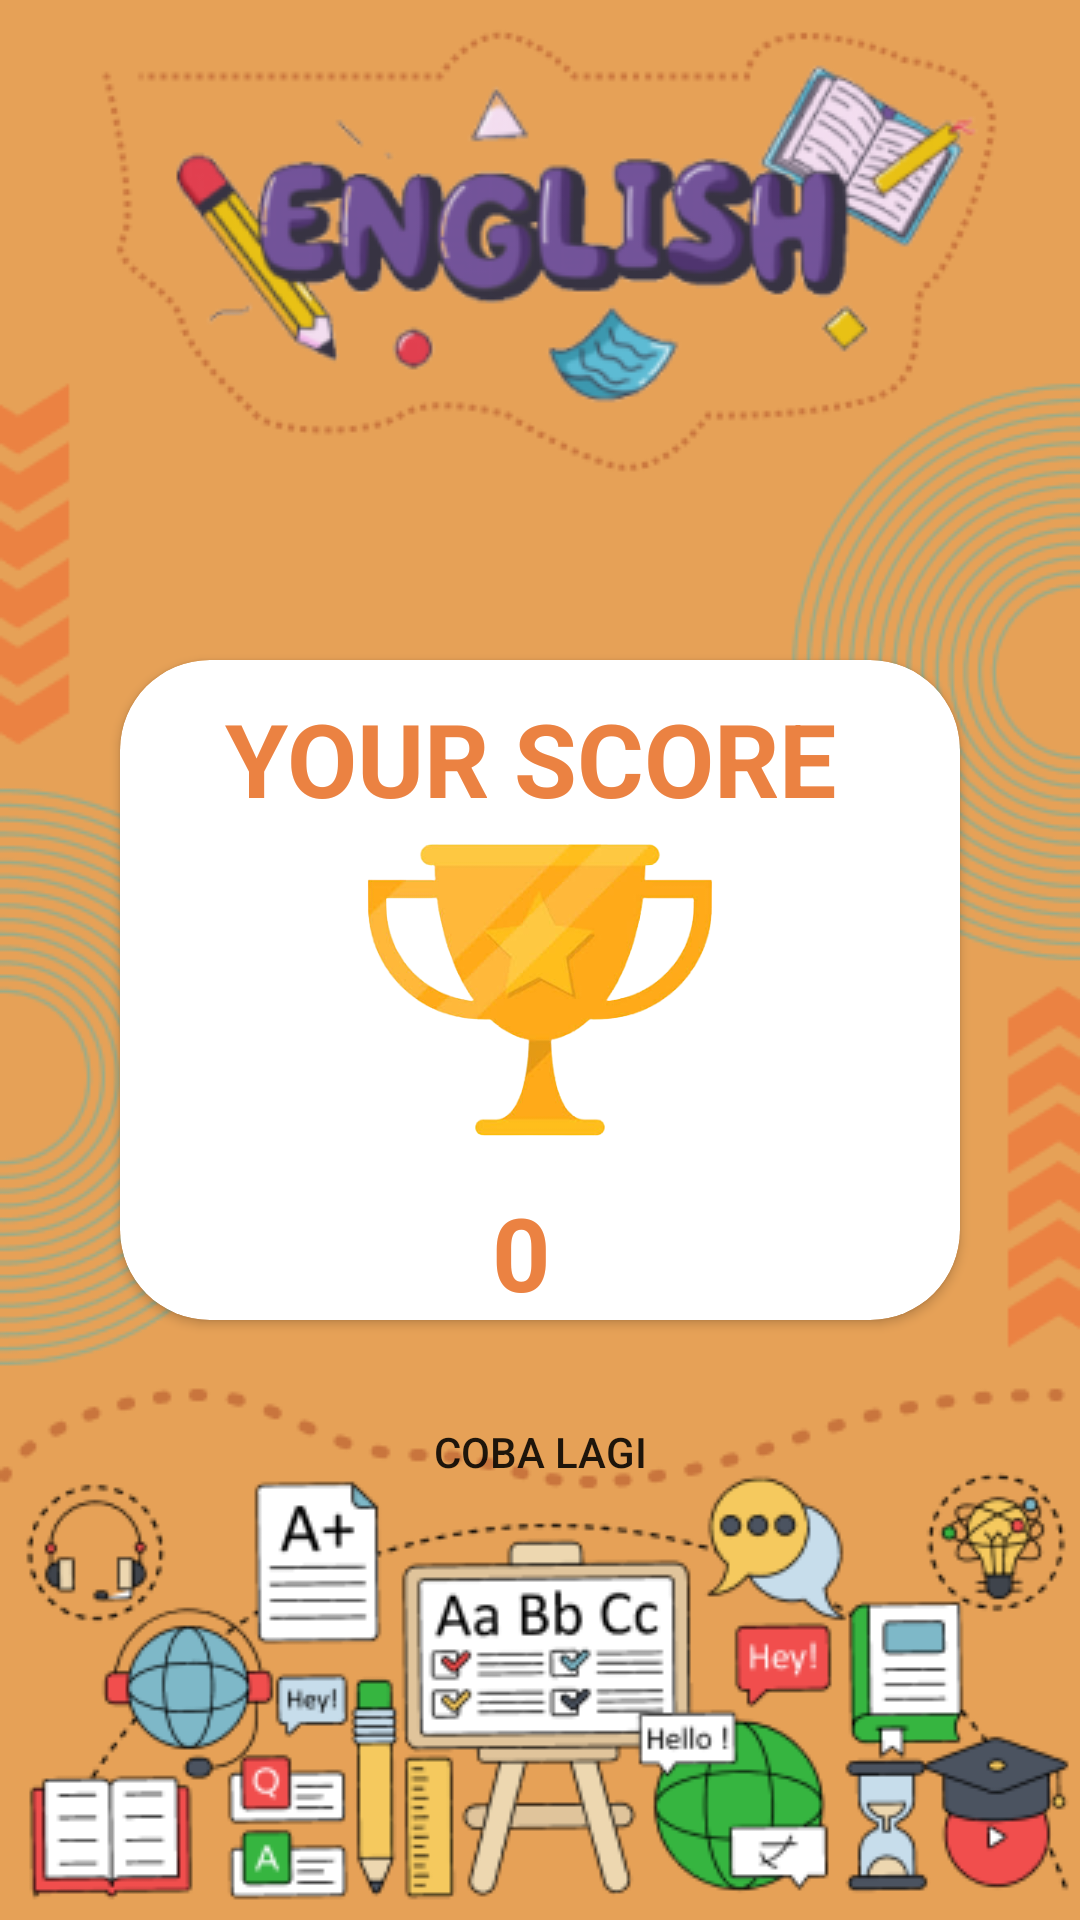

Named icons in this screenshot (1080*1920) and their bounding boxes, (x1, y1, x2, y2):
trop: (368, 844, 712, 1136)
